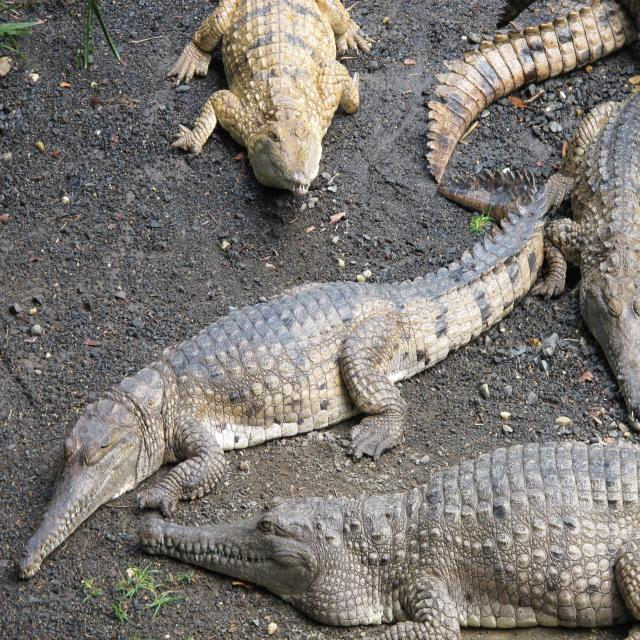crocodile: (0, 168, 573, 593), (125, 416, 640, 640), (147, 0, 386, 203)
